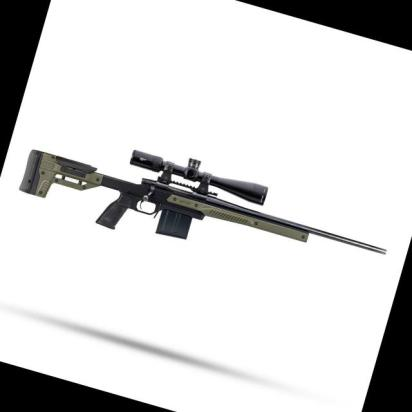Gun: (16, 146, 390, 260)
